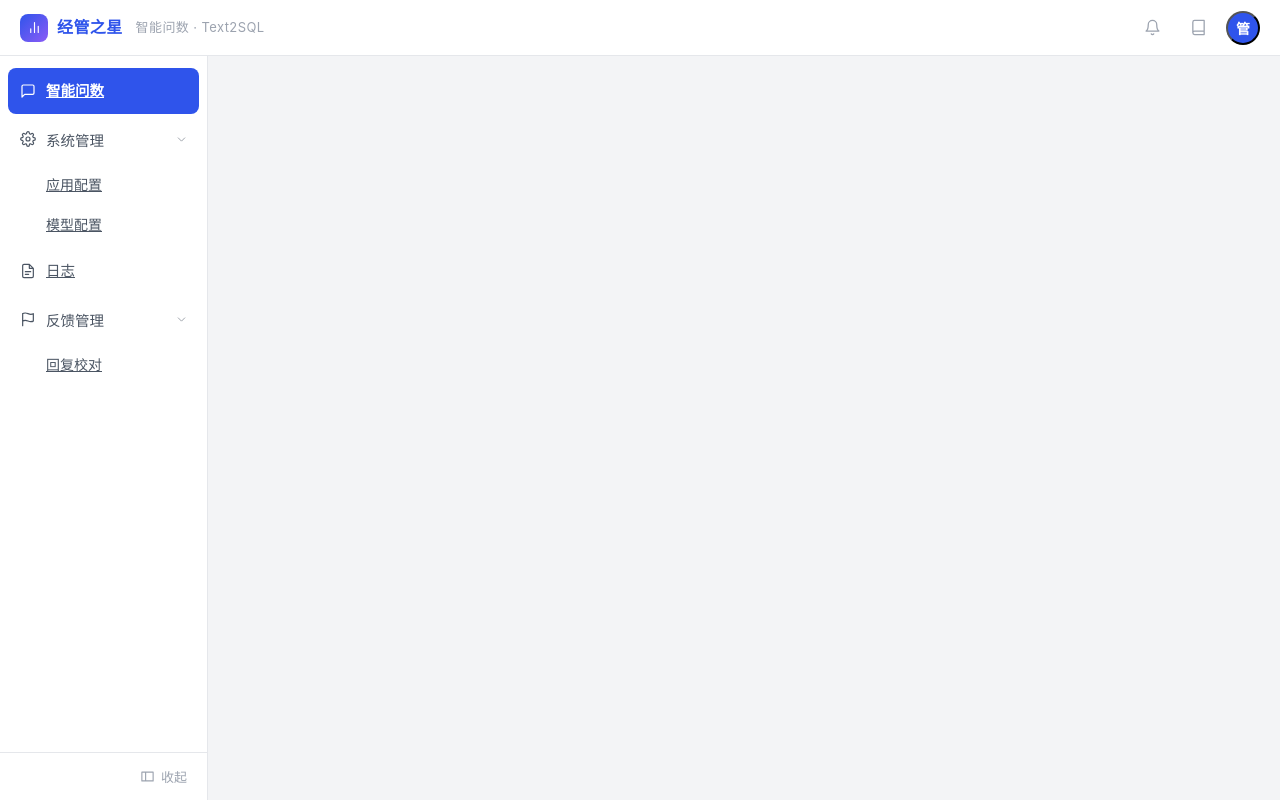
Test: AppShell — 账号菜单 › 密钥未配置时提示会走规则引擎（避免误以为是前端问题）
The image size is (1280, 800).
Click the button named "账号菜单": (1243, 28) [1226, 10, 1260, 44]
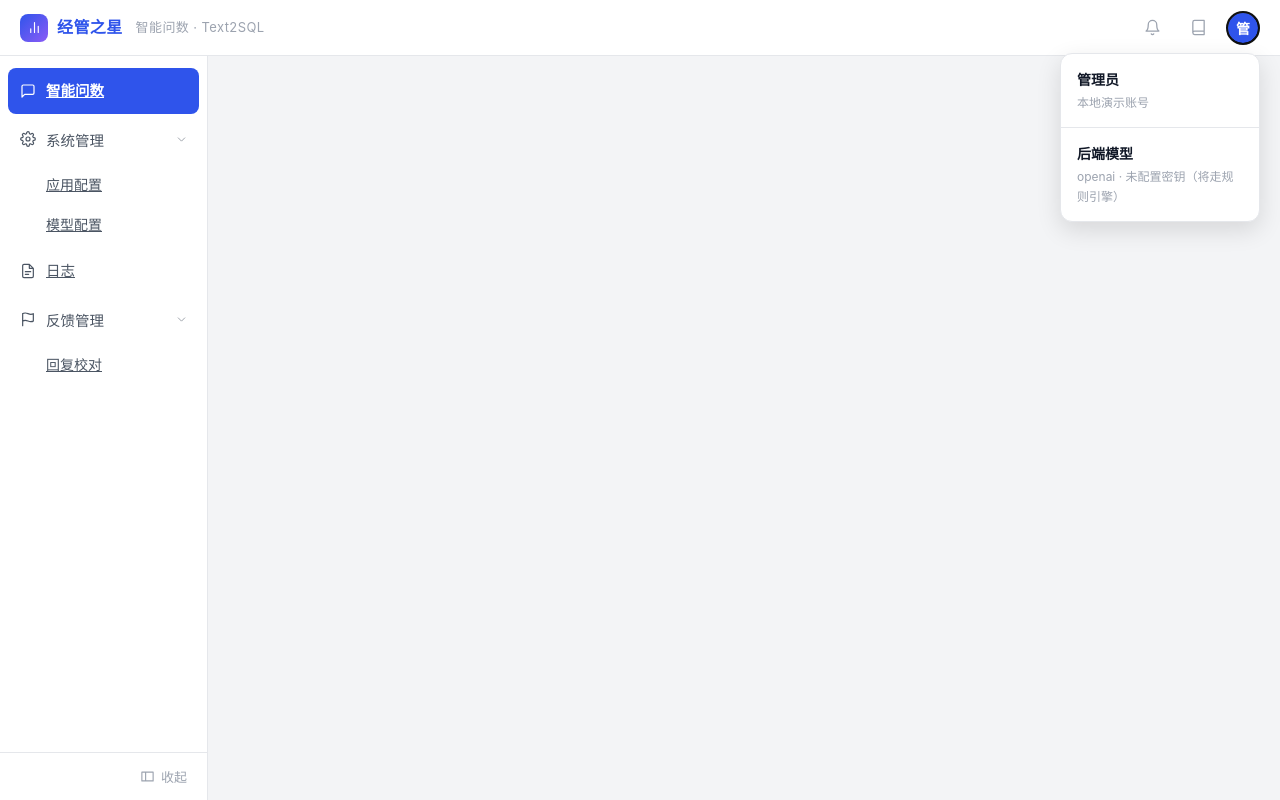
Result: the text "openai · 未配置密钥（将走规则引擎）" is shown at [1077, 168, 1243, 206]
